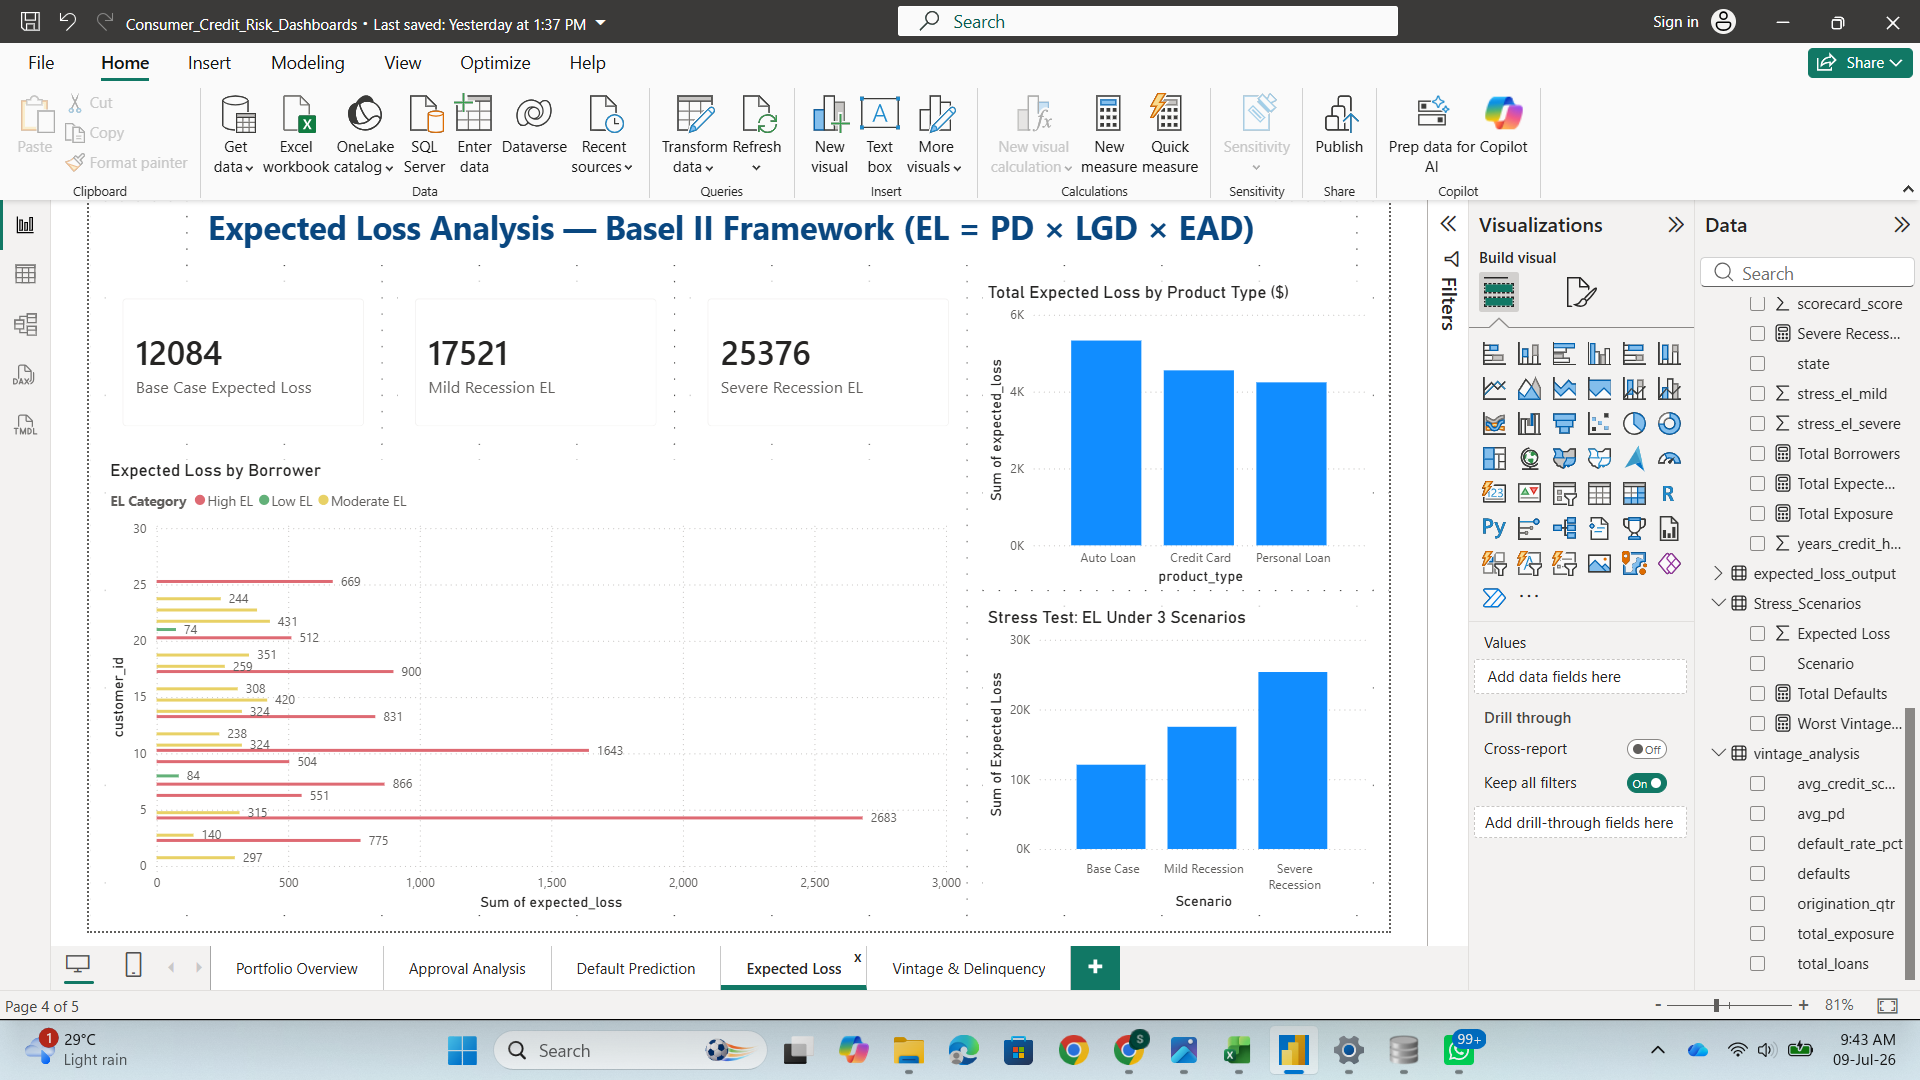

Layout of this report page (visuals, bound fields, positions):
{"tool":"powerbi","page":{"name":"Expected Loss","canvas":[1280,720],"ordinal":3},"visuals":[{"type":"textbox","box":[112,0,1056,64],"z":0},{"type":"cardVisual","fields":{"Data":["Sum(Stress_Scenarios.Expected Loss)"]},"box":[16,80,272,160],"z":1000},{"type":"cardVisual","fields":{"Data":["Sum(Stress_Scenarios.Expected Loss)"]},"box":[304,80,272,160],"z":2000},{"type":"cardVisual","fields":{"Data":["Sum(Stress_Scenarios.Expected Loss)"]},"box":[592,80,272,160],"z":3000},{"type":"clusteredBarChart","title":"Expected Loss by Borrower","fields":{"Category":["borrowers_data.customer_id"],"Y":["Sum(borrowers_data.expected_loss)"],"Series":["borrowers_data.EL Category"]},"box":[16,256,848,448],"z":4000},{"type":"clusteredColumnChart","title":"Total Expected Loss by Product Type ($)","fields":{"Category":["borrowers_data.product_type"],"Y":["Sum(borrowers_data.expected_loss)"]},"box":[880,80,384,304],"z":5000},{"type":"clusteredColumnChart","title":"Stress Test: EL Under 3 Scenarios","fields":{"Category":["Stress_Scenarios.Scenario"],"Y":["Sum(Stress_Scenarios.Expected Loss)"]},"box":[880,400,384,304],"z":6000}]}

Visuals, with their boxes on the page's 1280x720 design canvas (x1, y1, x2, y2). These are canvas units, not pixel positions in the 1920x1080 screenshot, which may show the page scaled, cropped or inside an application window:
textbox: box=[112, 0, 1168, 64]
cardVisual - Sum(Stress_Scenarios.Expected Loss): box=[16, 80, 288, 240]
cardVisual - Sum(Stress_Scenarios.Expected Loss): box=[304, 80, 576, 240]
cardVisual - Sum(Stress_Scenarios.Expected Loss): box=[592, 80, 864, 240]
"Expected Loss by Borrower" clusteredBarChart: box=[16, 256, 864, 704]
"Total Expected Loss by Product Type ($)" clusteredColumnChart: box=[880, 80, 1264, 384]
"Stress Test: EL Under 3 Scenarios" clusteredColumnChart: box=[880, 400, 1264, 704]
